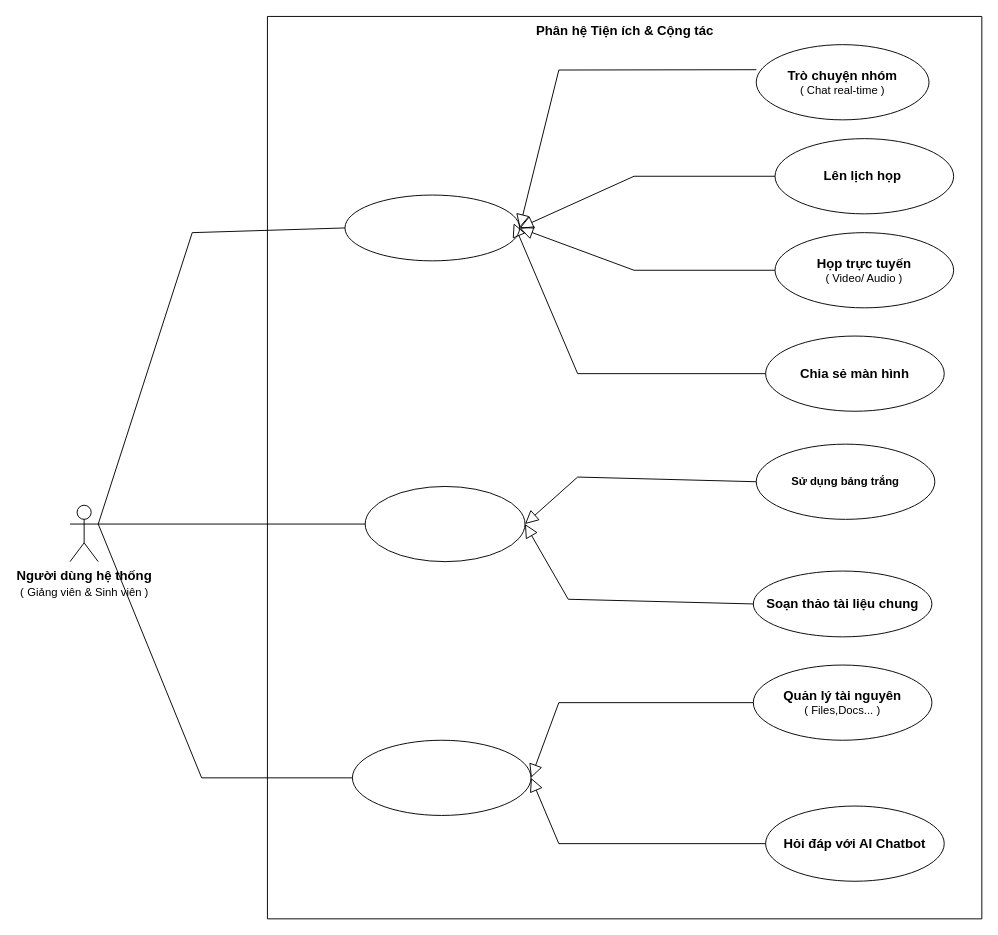
Image size: 998x935. Some labels were removed from this diagram. Each missing label, with the centre of its shape:
Công cụ làm việc: (444,524)
Giao tiếp: (432,227)
Lưu trữ & AI: (441,777)
